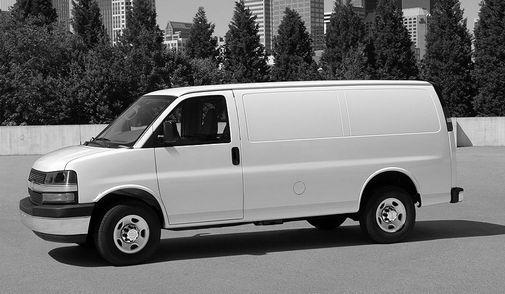car: (16, 75, 467, 271)
